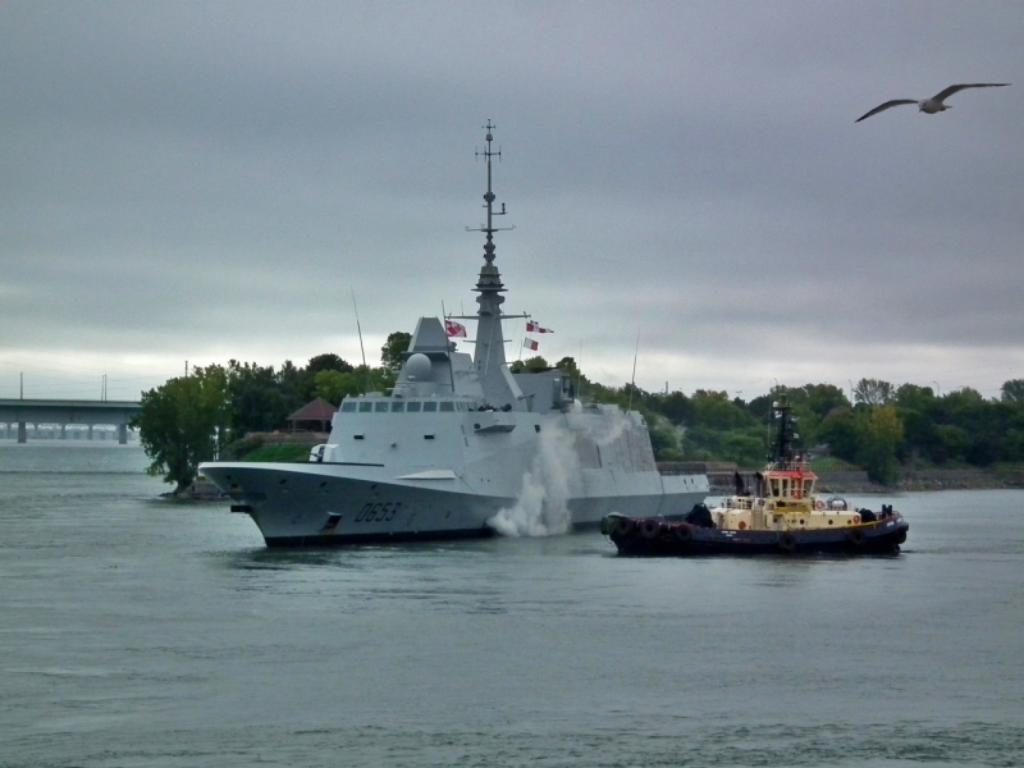Warship: (196, 113, 710, 552)
